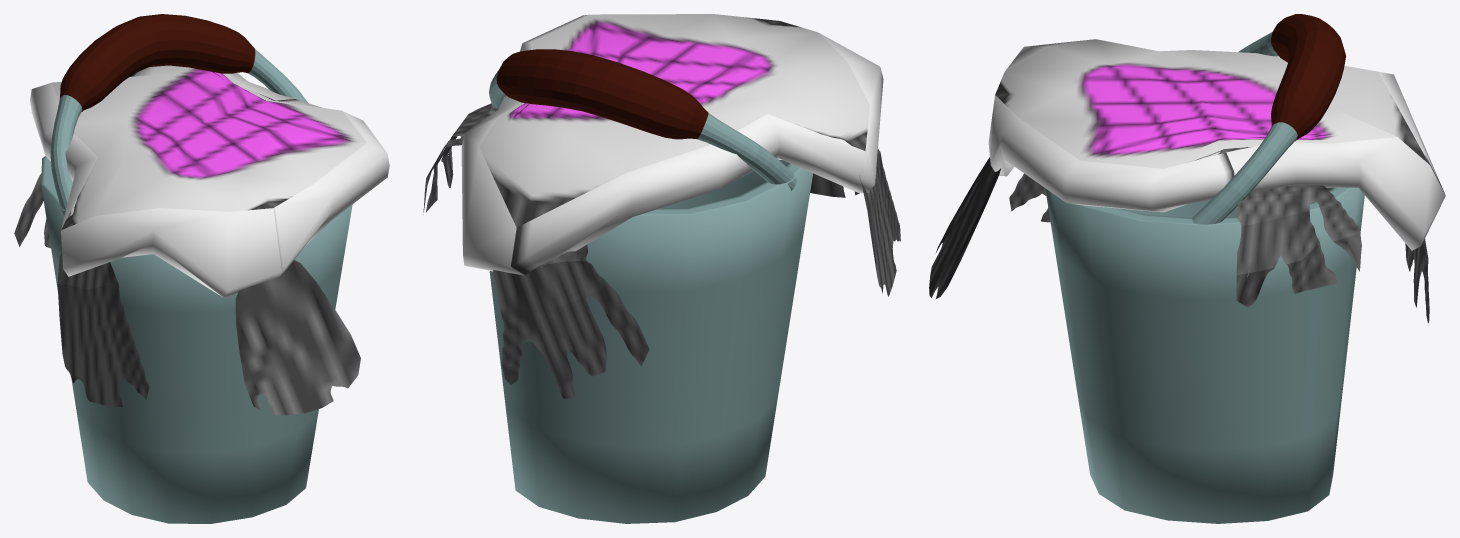
Rendered from bucket-covered.obj.
The picture shows the model from 3 angles, left to right: view 1: azimuth 30°, elevation 25°; view 2: azimuth 150°, elevation 25°; view 3: azimuth 270°, elevation 25°; orthographic projection. The views are drawn at different scales.
Parts seen in each view (by area): view 1: Blanket.001_Cube.1439, Bucket.003_Cube.1441; view 2: Bucket.003_Cube.1441, Blanket.001_Cube.1439; view 3: Bucket.003_Cube.1441, Blanket.001_Cube.1439.
Boxes of the visible parts, left/top/right/bottom form: Blanket.001_Cube.1439: left=14, top=65, right=389, bottom=415; Bucket.003_Cube.1441: left=41, top=14, right=352, bottom=523; Bucket.003_Cube.1441: left=489, top=49, right=812, bottom=523; Blanket.001_Cube.1439: left=423, top=14, right=900, bottom=398; Bucket.003_Cube.1441: left=1045, top=14, right=1364, bottom=523; Blanket.001_Cube.1439: left=929, top=39, right=1445, bottom=323.
Bounding box in the file's own units: 1.65 × 1.95 × 2.06.
3 materials, 1 textured.
